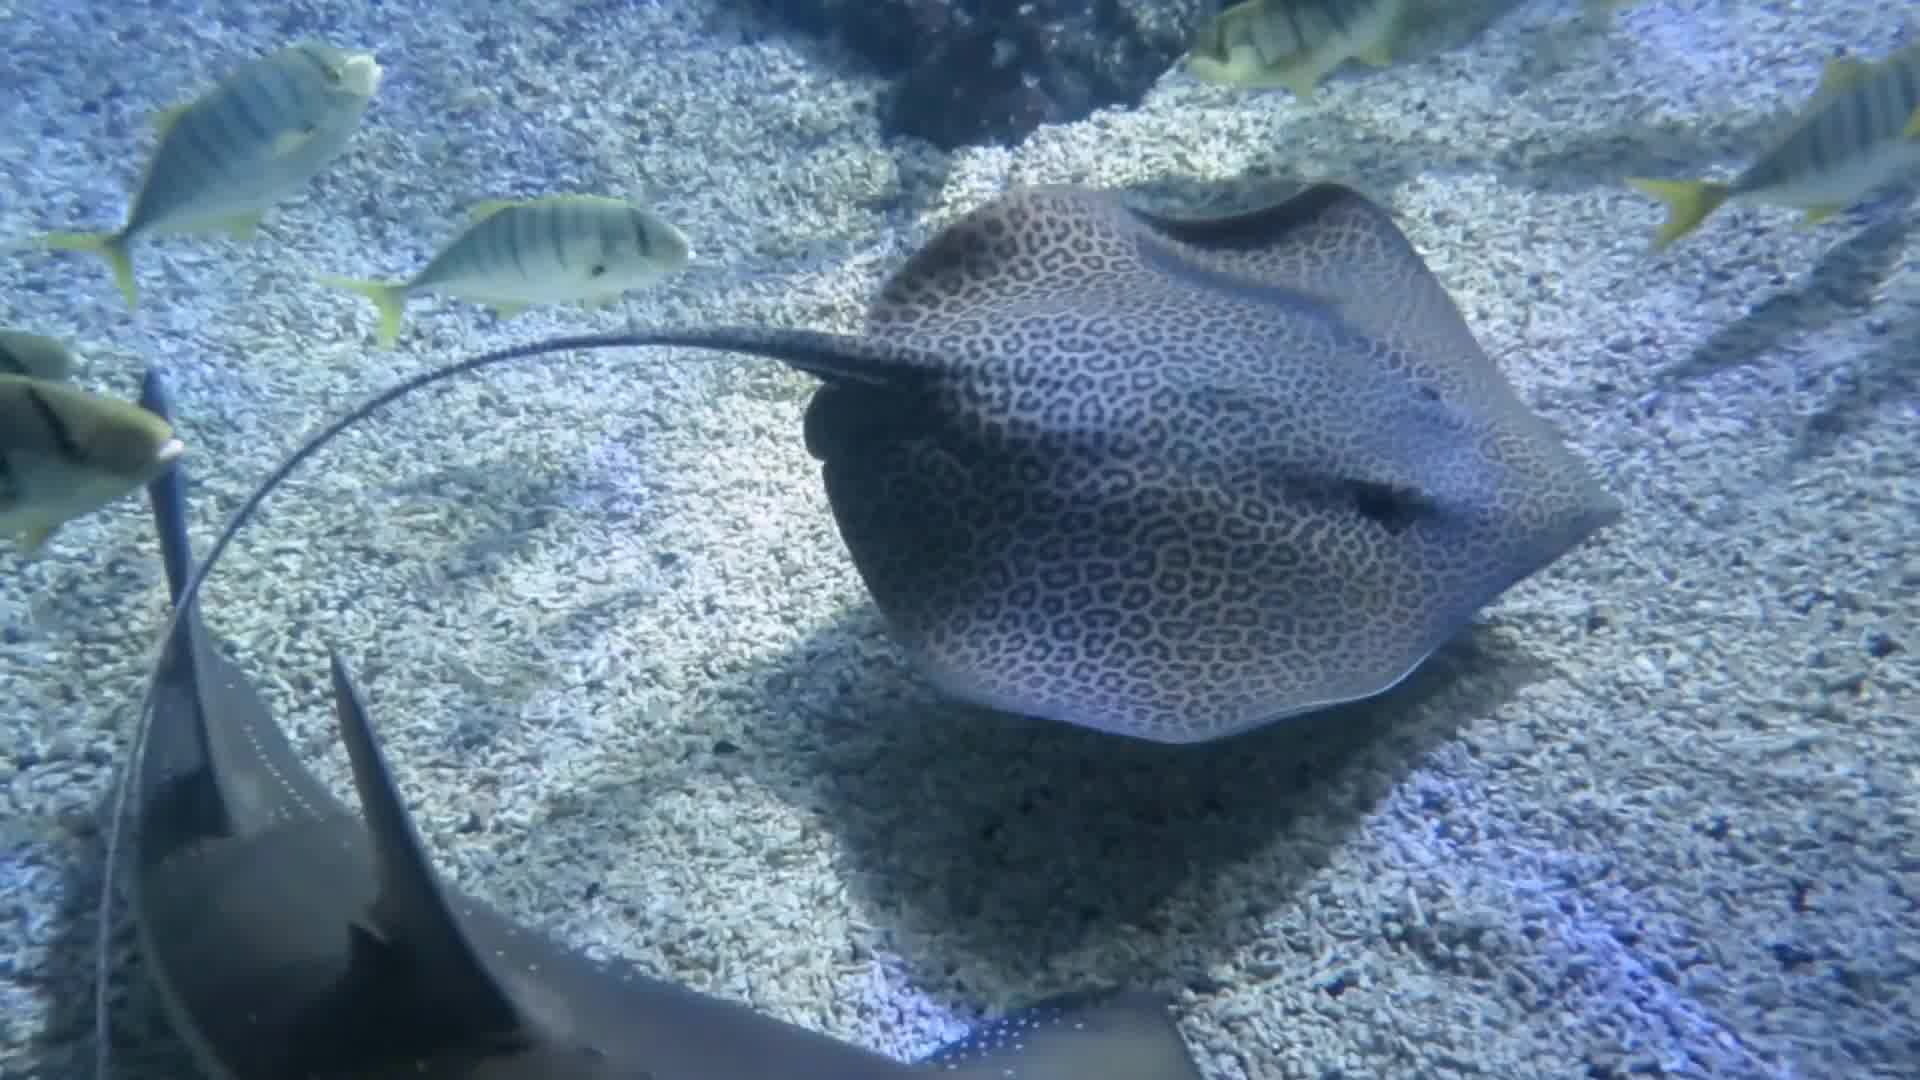Himantura uarnak: (790, 164, 1633, 785)
